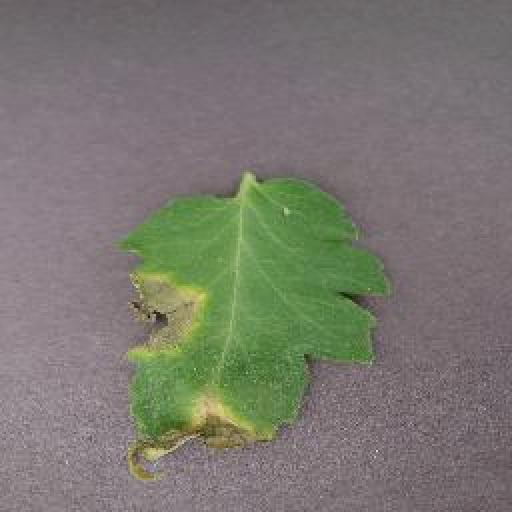disease_tomato: (120, 178, 390, 488)
